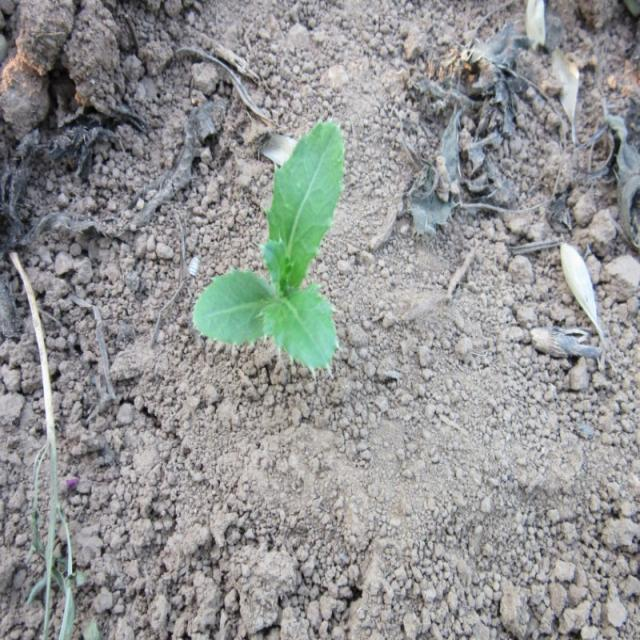cs: (192, 116, 345, 379)
